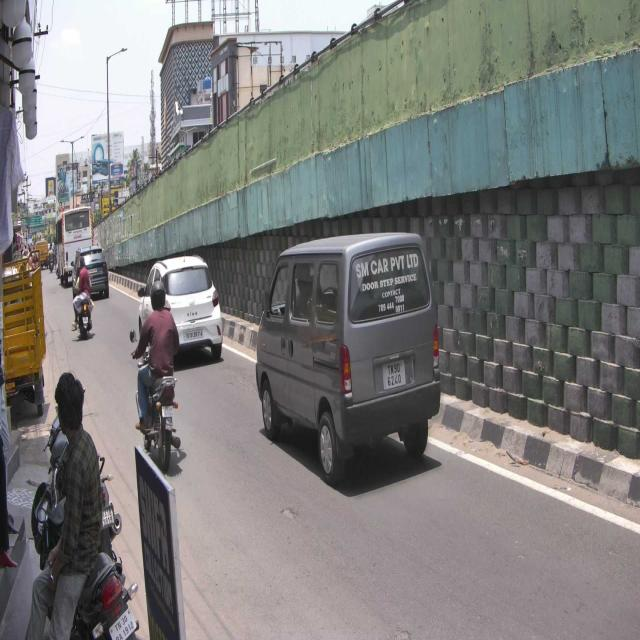single_rider: (128, 280, 182, 477)
